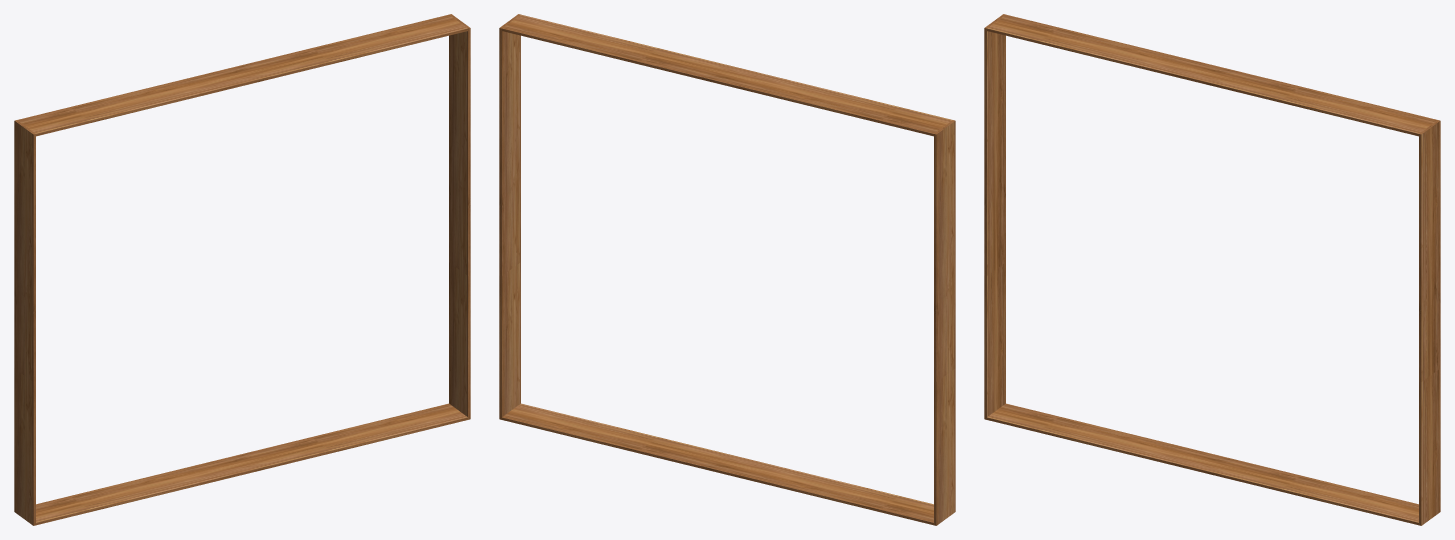
The model's file is frame add.fbx.
3 views of the same model, side by side, from view 1: azimuth 30°, elevation 25°; view 2: azimuth 150°, elevation 25°; view 3: azimuth 330°, elevation 25° (orthographic).
Visible parts, largest first — view 1: Box2131640277, Box2131640276, Box2131640275, Box2131640274; view 2: Box2131640277, Box2131640276, Box2131640275, Box2131640274; view 3: Box2131640277, Box2131640276, Box2131640274, Box2131640275.
Part boxes in pixels (x1,y1,x2,y2): Box2131640277: [17, 14, 467, 136]; Box2131640276: [36, 403, 467, 525]; Box2131640275: [14, 120, 35, 525]; Box2131640274: [449, 14, 470, 419]; Box2131640277: [502, 14, 952, 136]; Box2131640276: [502, 403, 933, 525]; Box2131640275: [934, 120, 955, 525]; Box2131640274: [499, 14, 520, 419]; Box2131640277: [987, 14, 1437, 136]; Box2131640276: [987, 403, 1418, 525]; Box2131640274: [1419, 120, 1440, 525]; Box2131640275: [984, 14, 1005, 419].
Bounding box in the file's own units: 1645 × 1408 × 124.
1 material, 1 textured.
